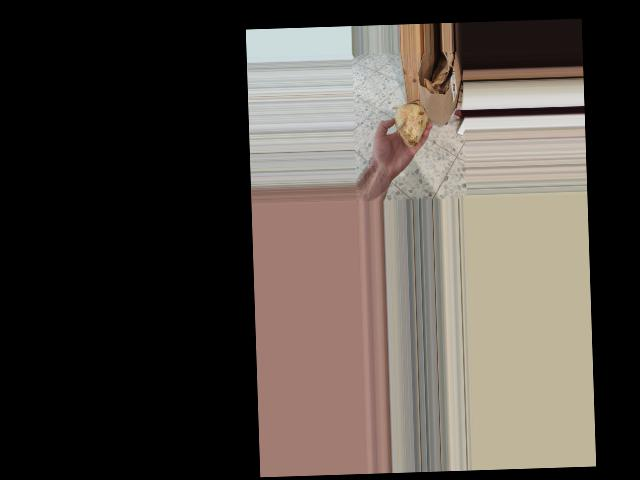onion: (392, 98, 430, 151)
